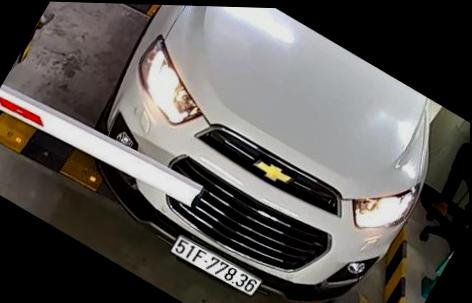License_Plate: (166, 231, 271, 299)
